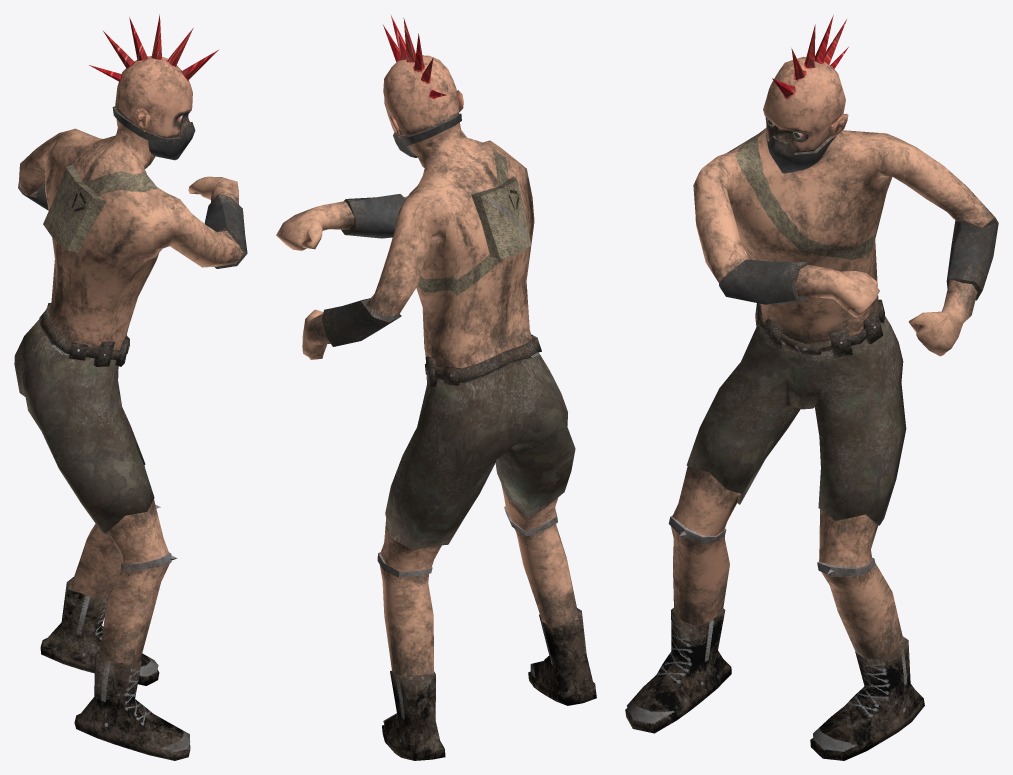
The model's file is Anim_arma_cc_npc2.0010.obj.
3 views of the same model, side by side, from view 1: azimuth 30°, elevation 25°; view 2: azimuth 150°, elevation 25°; view 3: azimuth 270°, elevation 25° (orthographic). The views are drawn at different scales.
Visible parts, largest first — view 1: polySurface1; view 2: polySurface1; view 3: polySurface1.
Boxes of the visible parts, x1,y1,x2,y2 form: polySurface1: (14, 14, 247, 760); polySurface1: (276, 14, 596, 760); polySurface1: (625, 15, 998, 760).
Size of the model in its own units: 3.62 by 9.77 by 4.5.
